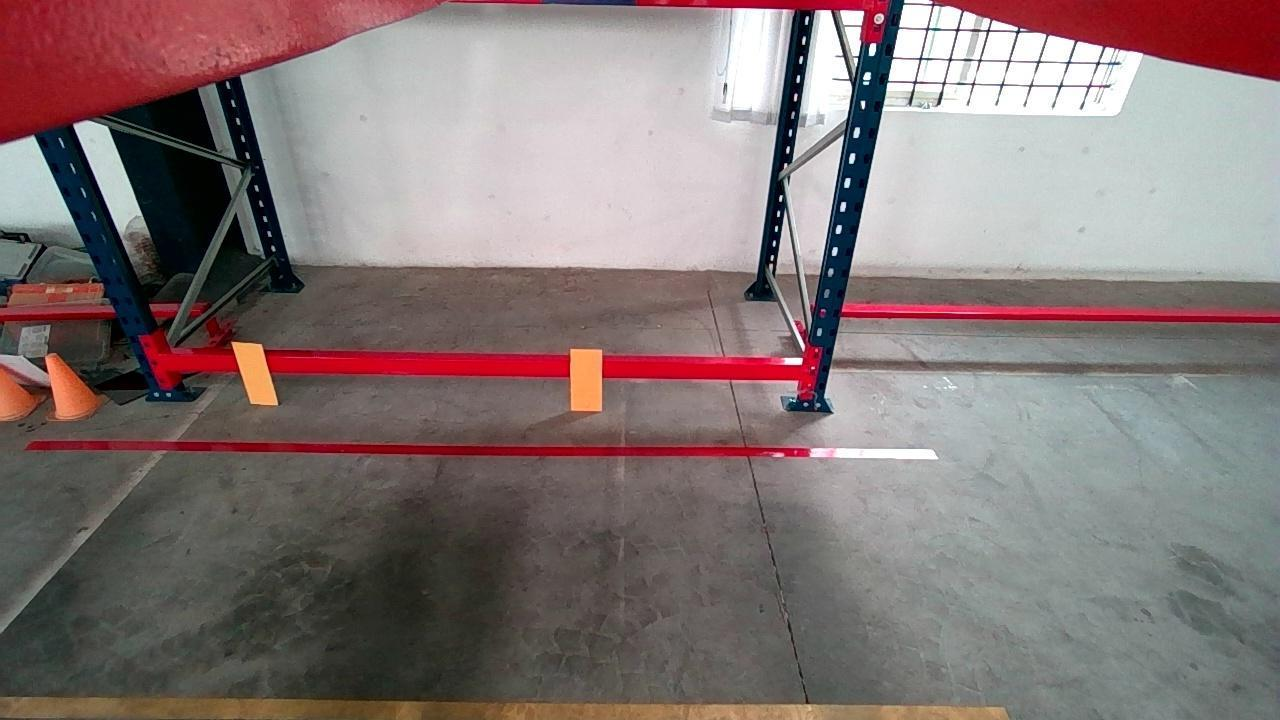h_rack: (162, 349, 806, 379)
orange_strip: (1, 693, 1011, 719), (231, 341, 274, 404), (572, 346, 605, 407)
red_line: (29, 436, 936, 460)
